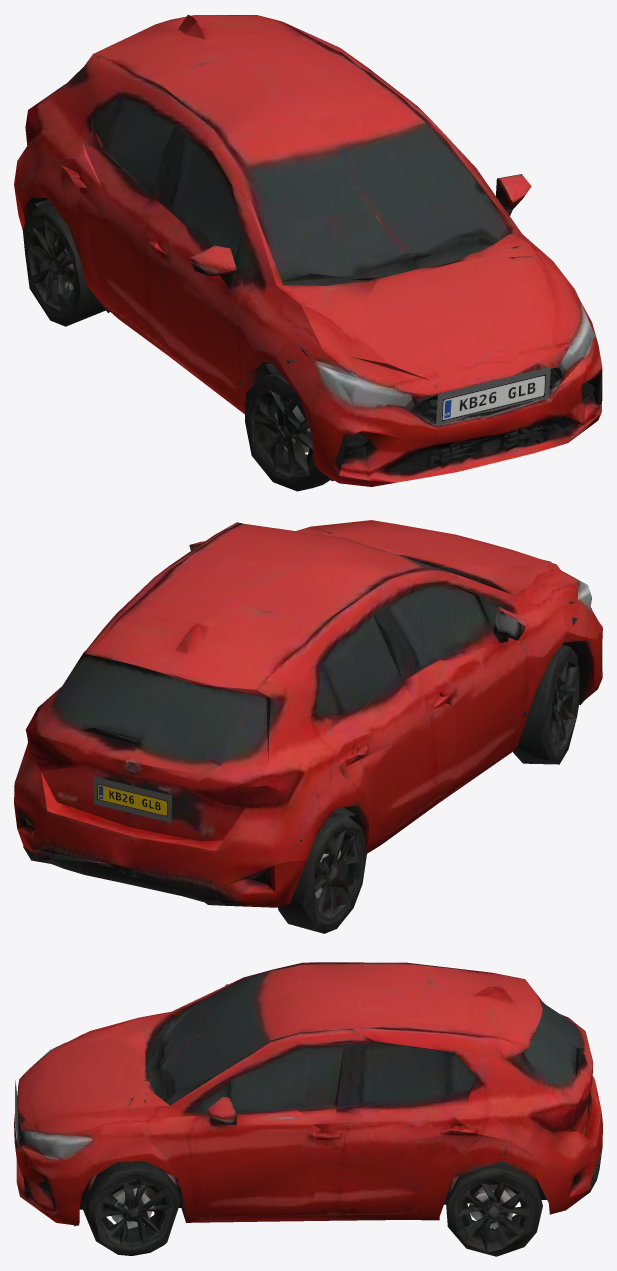
Rendered from car-hatch-lod.glb.
3 views of the same model, one above another, from view 1: azimuth 30°, elevation 25°; view 2: azimuth 150°, elevation 25°; view 3: azimuth 270°, elevation 25° (orthographic). The views are drawn at different scales.
Visible parts, largest first — view 1: body, wheel_FR_mesh, wheel_RR_mesh; view 2: body, wheel_RR_mesh, wheel_FR_mesh; view 3: body, wheel_RL_mesh, wheel_FL_mesh.
Boxes of the visible parts, x1=… form: body: x1=14, y1=14, x2=602, y2=486; wheel_FR_mesh: x1=245, y1=355, x2=329, y2=491; wheel_RR_mesh: x1=22, y1=203, x2=109, y2=326; body: x1=14, y1=520, x2=602, y2=907; wheel_RR_mesh: x1=278, y1=805, x2=366, y2=933; wheel_FR_mesh: x1=513, y1=631, x2=585, y2=764; body: x1=14, y1=962, x2=602, y2=1252; wheel_RL_mesh: x1=444, y1=1160, x2=546, y2=1256; wheel_FL_mesh: x1=74, y1=1162, x2=180, y2=1255.
Size of the model in its own units: 2.15 by 1.66 by 4.1.
Materials: 3 (2 with a texture image).
